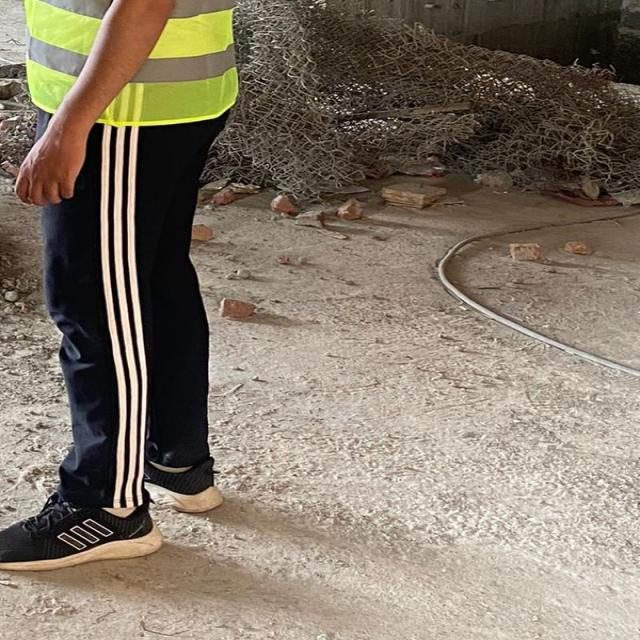Boot: (0, 490, 165, 578), (140, 451, 230, 517)
Vest: (22, 0, 245, 129)
